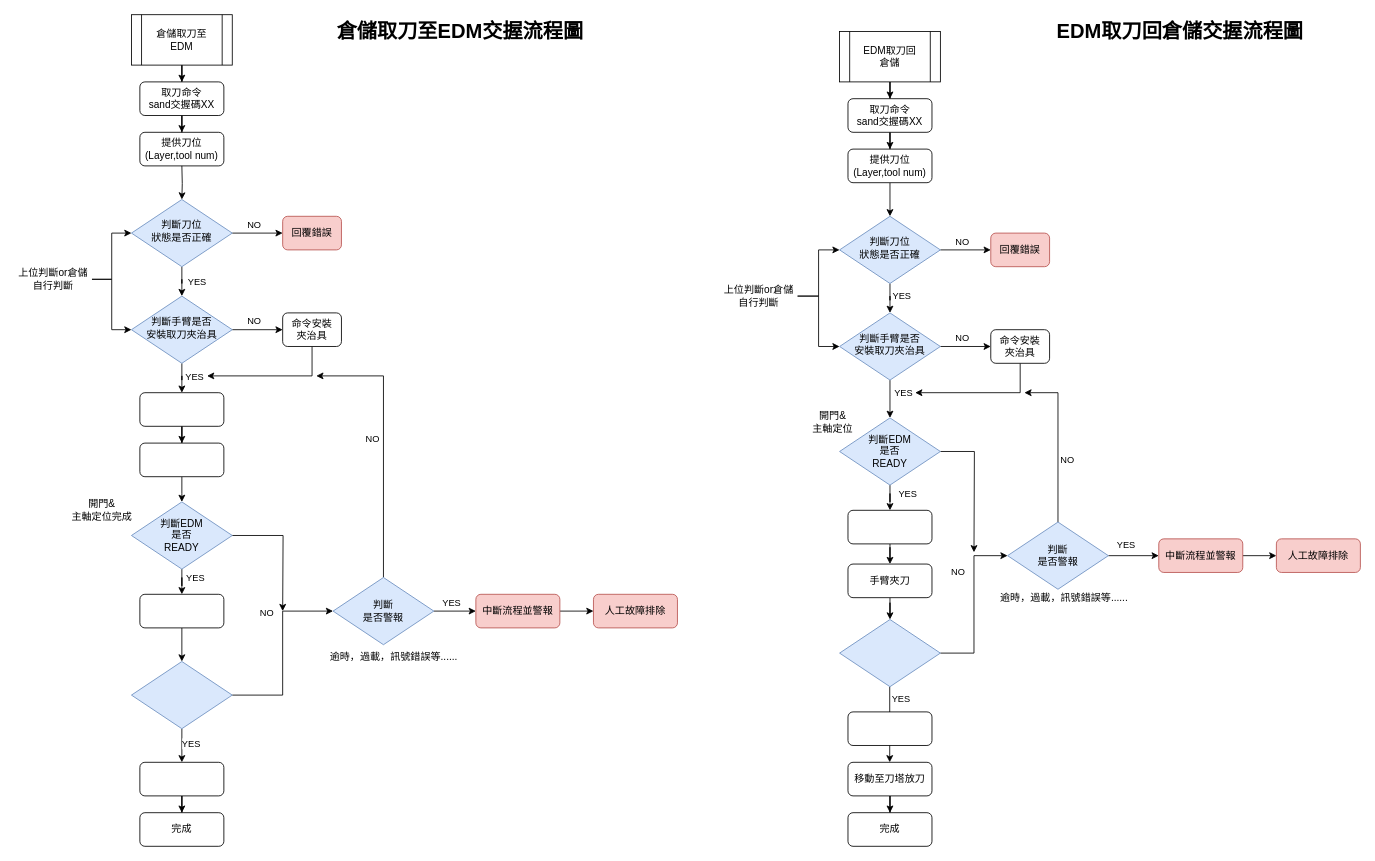
The diagram is 1375 pixels wide and 861 high, and some of its shapes have lost their labels. The shapes that lost their labels are listed below. From the top down, each one's box as (x1, y1, x2, y2) in pixels, then its label:
(139, 392, 224, 426): 手臂移動至 刀塔取刀
(139, 442, 224, 477): 取刀完成 至待命位A orB
(847, 509, 932, 544): 手臂伸出至取刀位AorB
(139, 593, 224, 628): 手臂伸出並至 主軸放刀位
(839, 619, 940, 687): 判斷EDM 主軸脫離
(131, 661, 232, 729): 判斷EDM 夾持完成
(847, 711, 932, 746): 手臂收回
(139, 761, 224, 796): 夾治具開啟 並收回
